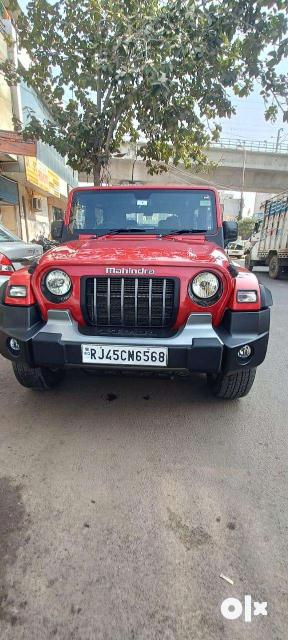Indian_Number_Plate: (83, 344, 170, 365)
